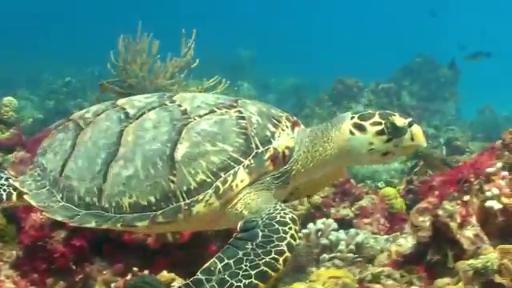Fish: (0, 93, 425, 287)
